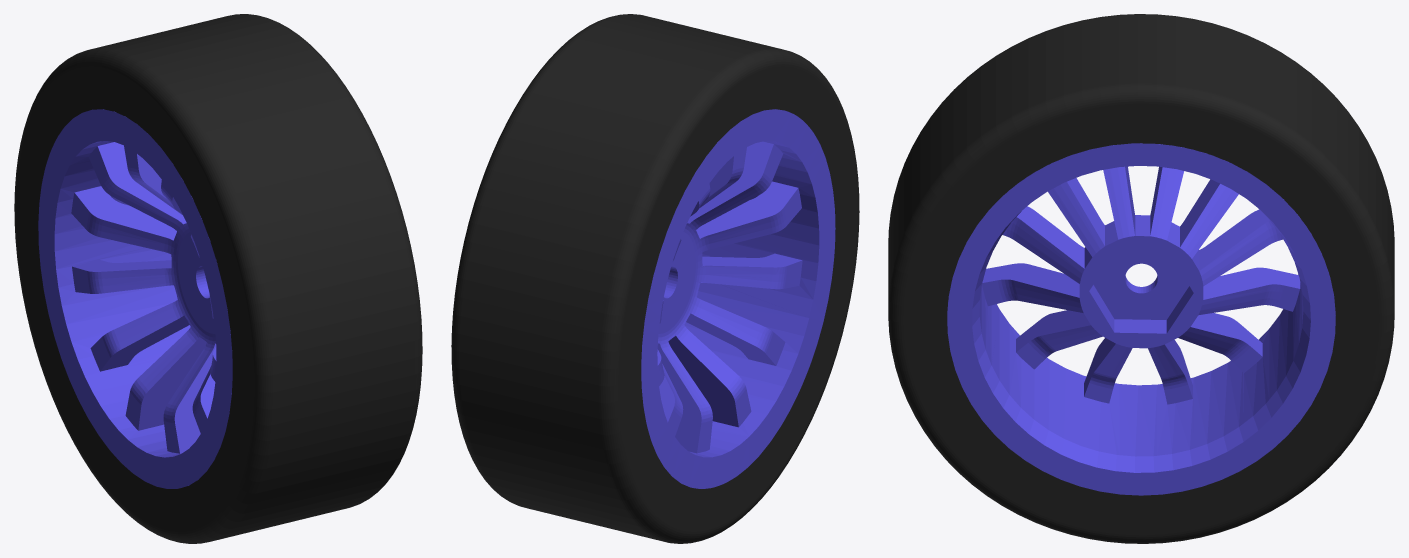
File: WheelRight.fbx
3 views of the same model, side by side, from view 1: azimuth 30°, elevation 25°; view 2: azimuth 150°, elevation 25°; view 3: azimuth 270°, elevation 25° (orthographic).
Parts seen in each view (by area): view 1: Sborka var7 - Колесико)-2 Диск-1.002; view 2: Sborka var7 - Колесико)-2 Диск-1.002; view 3: Sborka var7 - Колесико)-2 Диск-1.002.
Part boxes in pixels (<box>): Sborka var7 - Колесико)-2 Диск-1.002: <box>14,14,422,543</box>; Sborka var7 - Колесико)-2 Диск-1.002: <box>451,14,859,543</box>; Sborka var7 - Колесико)-2 Диск-1.002: <box>888,14,1394,543</box>.
Bounding box in the file's own units: 2535 × 6709 × 6709.
